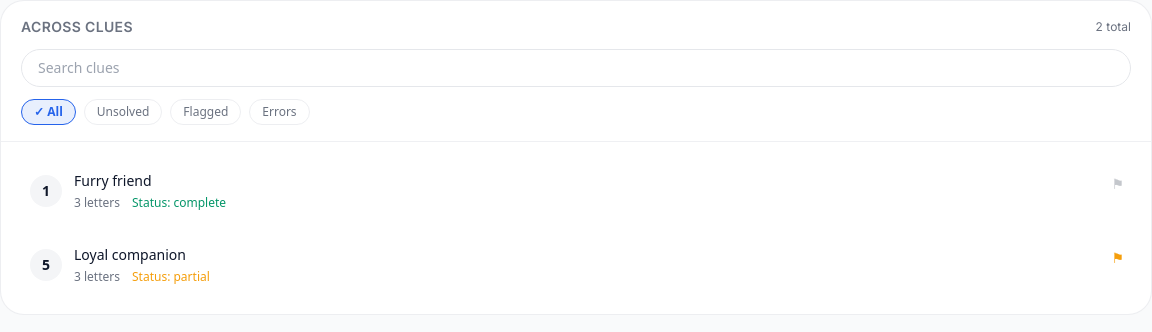
Test case: ClueList preset filters (#13) › Errors shows only clues with a false check result
Click the button "Errors" at (279, 112), box [249,99,310,125]
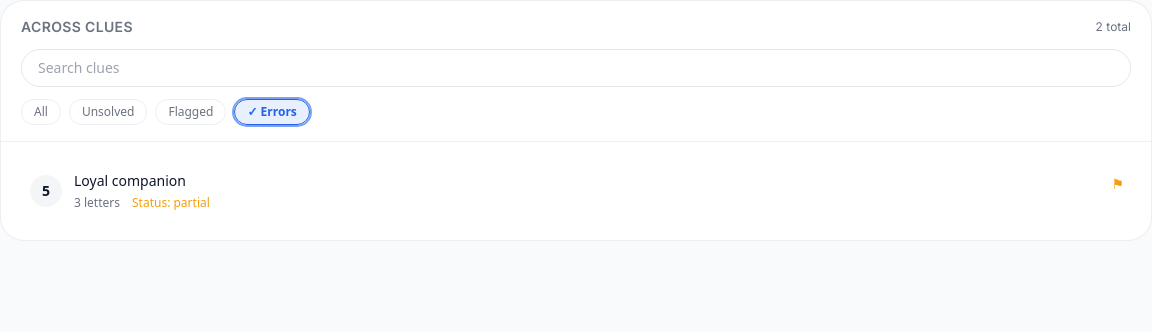
Expected: the text "Loyal companion" is shown, [74,171,186,190]
Now the button "Furry friend" is gone
